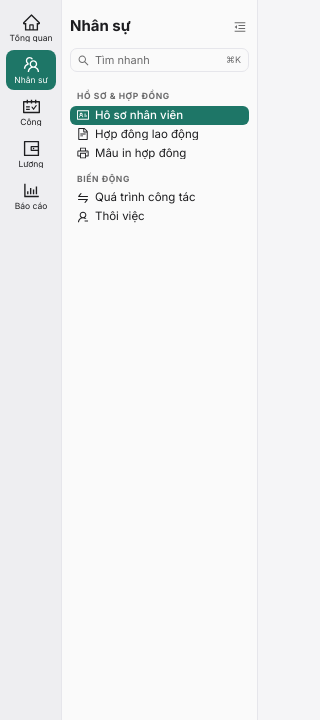
it: Sidebar › bấm rail phân hệ khác thì panel đổi sang phân hệ đó
Click the button titled "Chấm công —" at (31, 112), box x1=6 y1=92 x2=56 y2=132
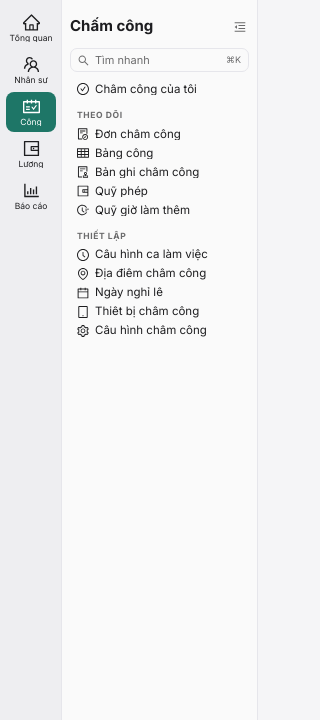
Check: the text "Bảng công" is shown, box x1=95 y1=146 x2=153 y2=160
Check: the button "Hợp đồng lao động" is gone
